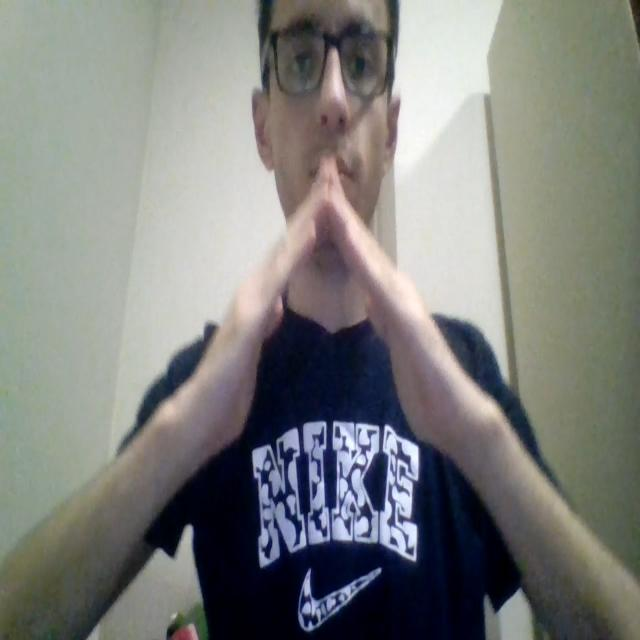house: (165, 162, 474, 465)
